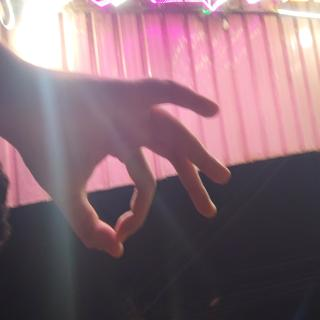Space: (46, 114, 193, 320)
